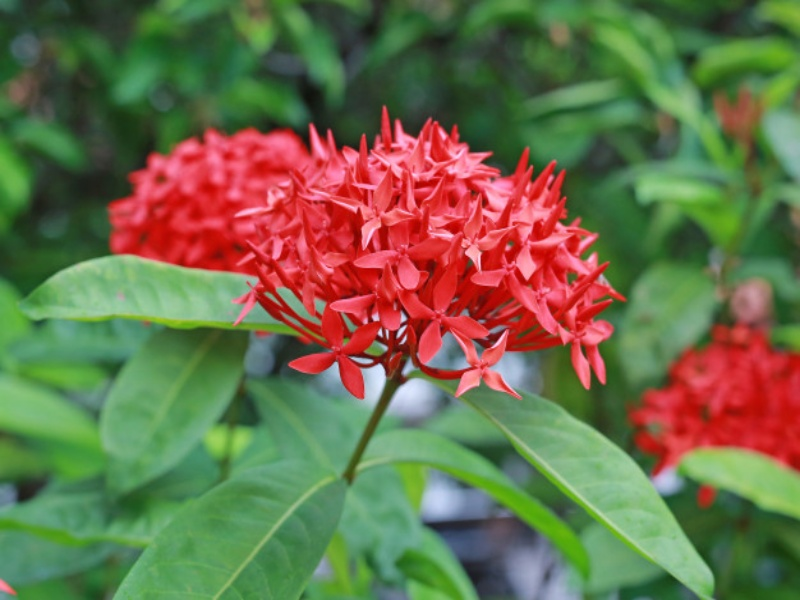Ixora: (213, 95, 662, 444)
